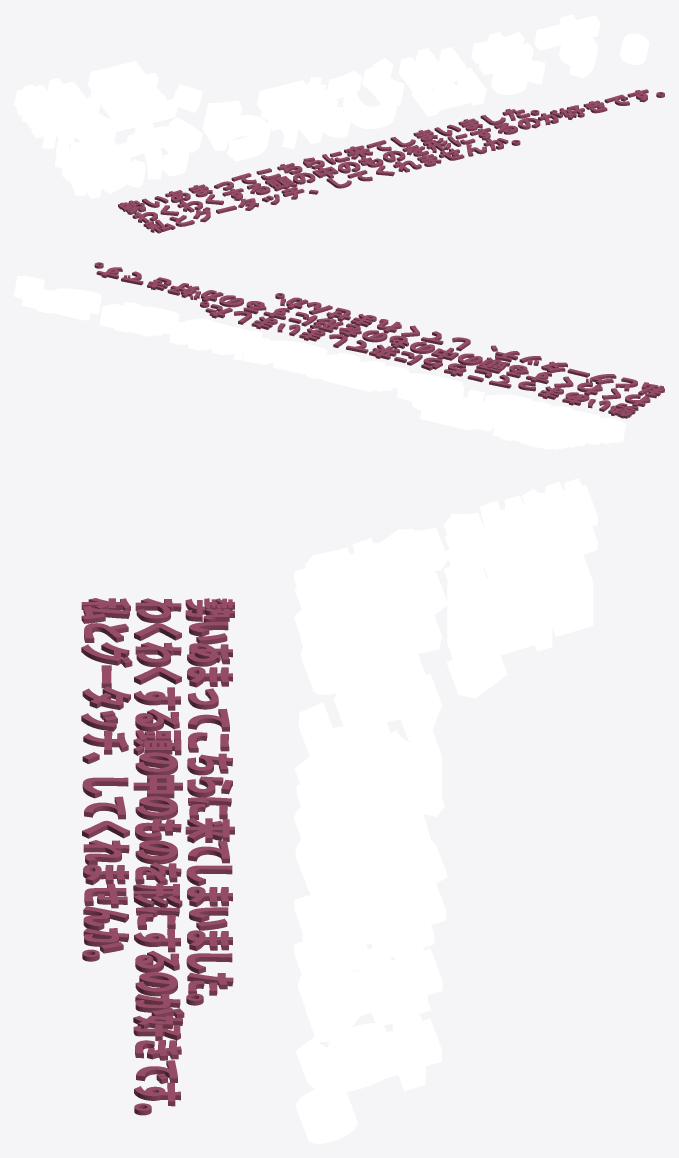
Rendered from tobiderunetu8.glb.
The picture shows the model from 3 angles, top to bottom: view 1: azimuth 30°, elevation 25°; view 2: azimuth 150°, elevation 25°; view 3: azimuth 270°, elevation 25°; orthographic projection. The views are drawn at different scales.
Parts seen in each view (by area): view 1: 紙, 飛, 熱, 量, 出, び, ま, か, ら, す, 。, 、; view 2: 飛, 熱, 量, び, 出, ま, す, 紙, ら, か, 。, 頭 (+6 smaller); view 3: 量, 紙, 出, 熱, 飛, び, ま, か, す, ら, 。, 、 (+6 smaller).
Boxes of the visible parts, x1=… form: 紙: x1=55, y1=126, x2=145, y2=198; 飛: x1=256, y1=77, x2=351, y2=149; 熱: x1=14, y1=78, x2=109, y2=148; 量: x1=88, y1=61, x2=178, y2=131; 出: x1=398, y1=47, x2=486, y2=116; び: x1=327, y1=58, x2=404, y2=128; ま: x1=471, y1=32, x2=545, y2=94; か: x1=126, y1=117, x2=202, y2=179; ら: x1=202, y1=100, x2=270, y2=161; す: x1=534, y1=14, x2=600, y2=78; 。: x1=620, y1=33, x2=648, y2=64; 、: x1=174, y1=84, x2=202, y2=112; 飛: x1=306, y1=353, x2=408, y2=391; 熱: x1=493, y1=410, x2=587, y2=449; 量: x1=420, y1=393, x2=515, y2=431; び: x1=234, y1=337, x2=327, y2=374; 出: x1=169, y1=318, x2=262, y2=355; ま: x1=99, y1=302, x2=179, y2=336; す: x1=21, y1=285, x2=101, y2=320; 紙: x1=529, y1=406, x2=625, y2=444; ら: x1=397, y1=373, x2=464, y2=401; か: x1=467, y1=389, x2=551, y2=413; 。: x1=14, y1=276, x2=44, y2=298; 頭: x1=476, y1=357, x2=509, y2=373; 量: x1=447, y1=550, x2=593, y2=658; 紙: x1=294, y1=528, x2=448, y2=636; 出: x1=294, y1=863, x2=446, y2=974; 熱: x1=443, y1=478, x2=597, y2=586; 飛: x1=294, y1=724, x2=444, y2=839; び: x1=295, y1=793, x2=447, y2=898; ま: x1=298, y1=934, x2=442, y2=1041; か: x1=300, y1=598, x2=441, y2=694; す: x1=295, y1=996, x2=441, y2=1091; ら: x1=298, y1=673, x2=442, y2=757; 。: x1=296, y1=1085, x2=357, y2=1143; 、: x1=446, y1=639, x2=507, y2=698.
Size of the model in its own units: 13.65 by 1.39 by 5.35.
